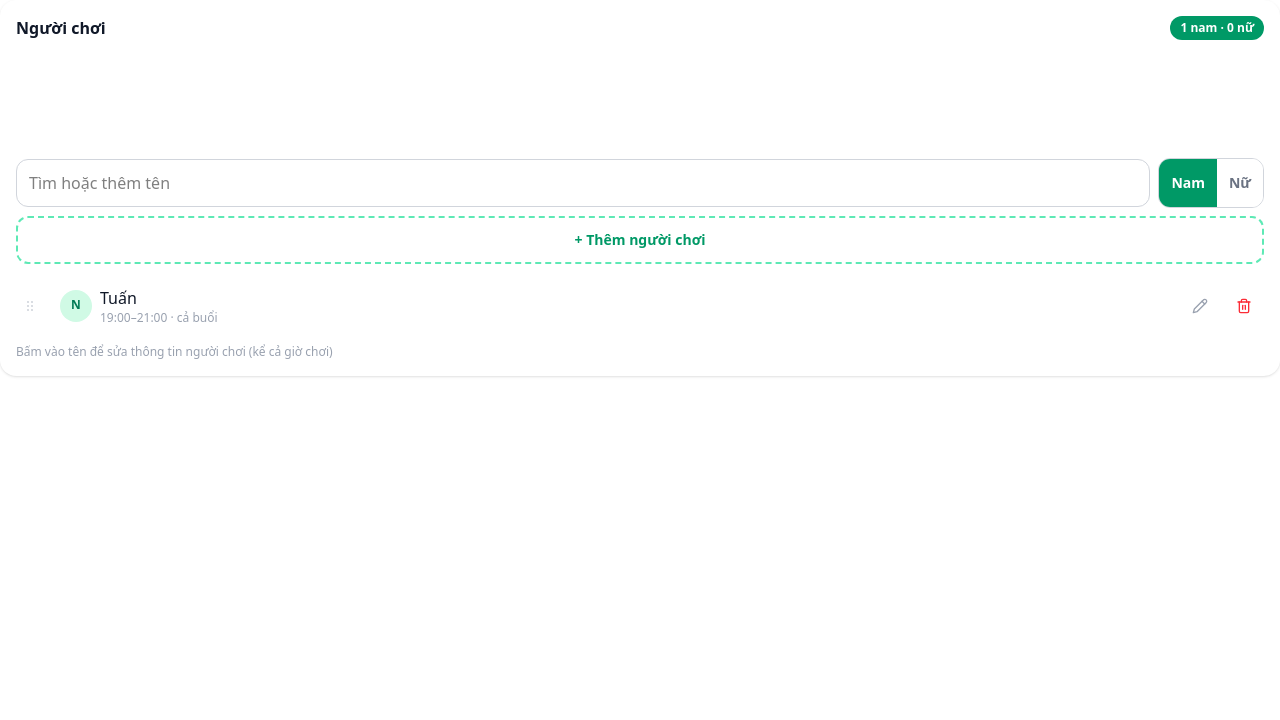
Test case: hourly mode shows default time; tapping the name opens the edit drawer
Expected: the text "19:00–21:00 · cả buổi" is shown, [100,310,218,326]
Click the text "Tuấn": (118, 298) [100,286,137,310]
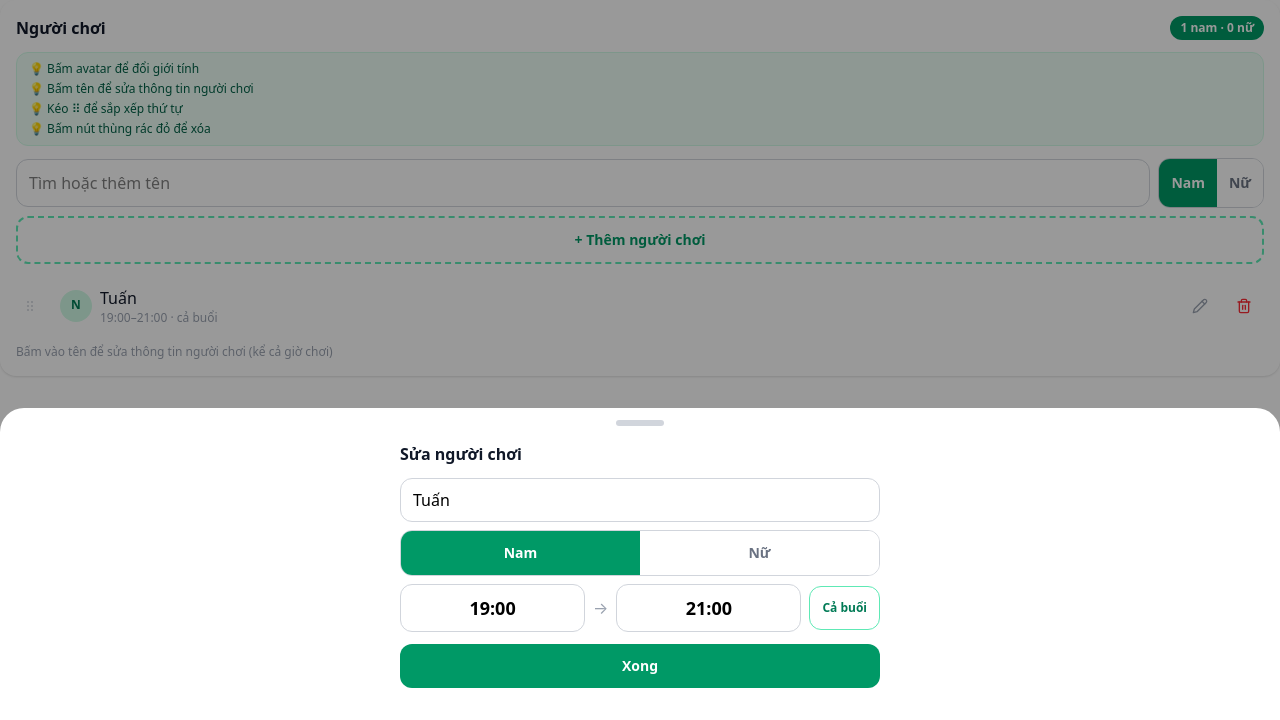
Expected: the button named "Giờ vào của Tuấn" is shown, [400,584,585,632]
